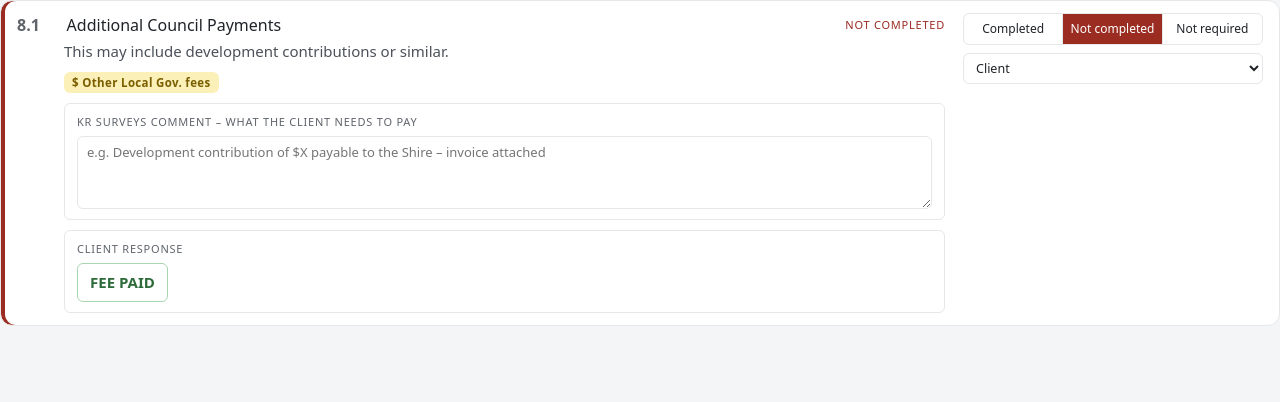
Scenario: KR note panel › shows the save-failed banner and, once the person leaves the field, the saved text again
Type "Lost" into the text box labelled "KR Surveys comment – what the client needs to pay".
click(504, 173); type("Lost")  # box [77,136,932,209]
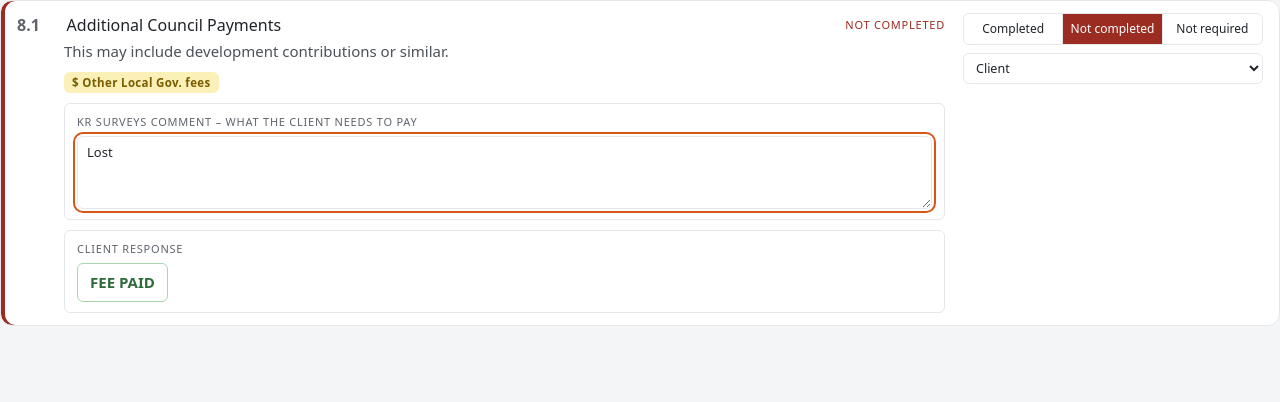
Press Tab
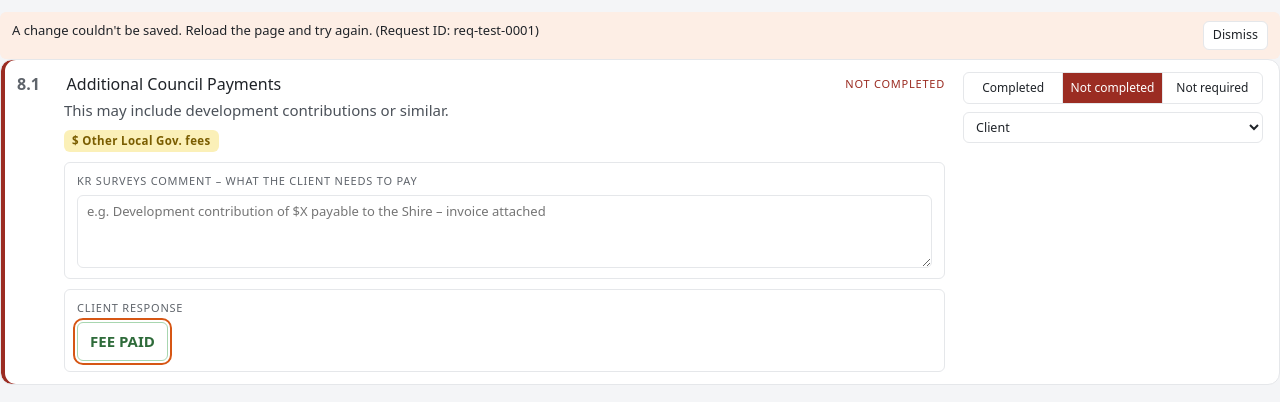
Expected: the text "A change couldn't be saved" is shown, [12,21,539,39]
Expected: the text box labelled "KR Surveys comment – what the client needs to pay" is empty, [77,195,932,268]
